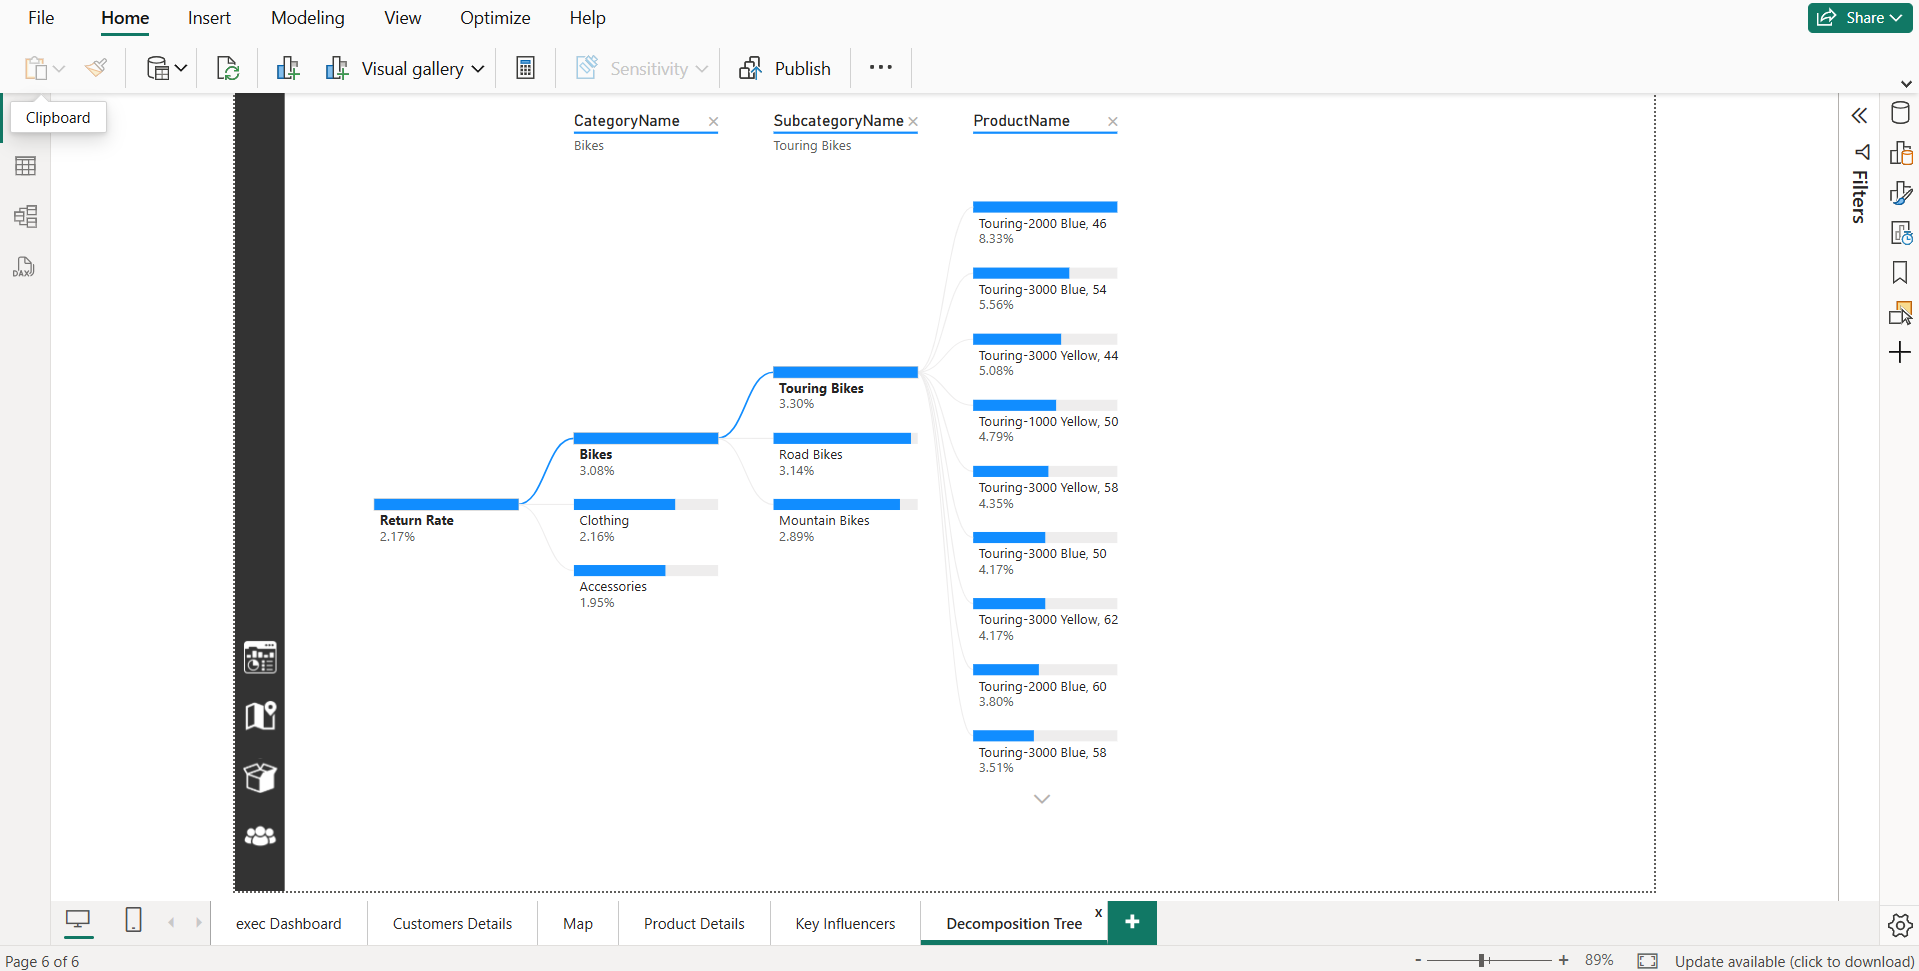

The page's visual inventory and layout, read from the dashboard file:
{"tool":"powerbi","page":{"name":"Decomposition Tree","canvas":[1280,720],"ordinal":5},"visuals":[{"type":"decompositionTreeVisual","fields":{"Analyze":["Table Measures.Return Rate"],"ExplainBy":["Product_Categories_Lookup.CategoryName","Product_Subcategories_Lookup.SubcategoryName","Product_Lookup.ProductName"]},"box":[95.4,0,1041.9,720.2],"z":0},{"type":"actionButton","box":[0,489.1,45.2,39.1],"z":0,"group":"g1"},{"type":"shape","title":"left nav","box":[0,0,45,720],"z":1},{"type":"group","id":"g1","title":"navigation buttons","box":[0,489.1,45.2,200.5],"z":2},{"type":"actionButton","box":[0,542.9,45.2,39.1],"z":1000,"group":"g1"},{"type":"actionButton","box":[0,650.5,45.2,39.1],"z":2000,"group":"g1"},{"type":"actionButton","box":[0,596.7,45.2,39.1],"z":3000,"group":"g1"}]}

Visuals, with their boxes on the page's 1280x720 design canvas (x1, y1, x2, y2). These are canvas units, not pixel positions in the 1919x971 screenshot, which may show the page scaled, cropped or inside an application window:
decompositionTreeVisual - Table Measures.Return Rate x Product_Categories_Lookup.CategoryName: locate(95, 0, 1137, 720)
actionButton: locate(0, 489, 45, 528)
"left nav" shape: locate(0, 0, 45, 720)
"navigation buttons" group: locate(0, 489, 45, 690)
actionButton: locate(0, 543, 45, 582)
actionButton: locate(0, 650, 45, 690)
actionButton: locate(0, 597, 45, 636)
